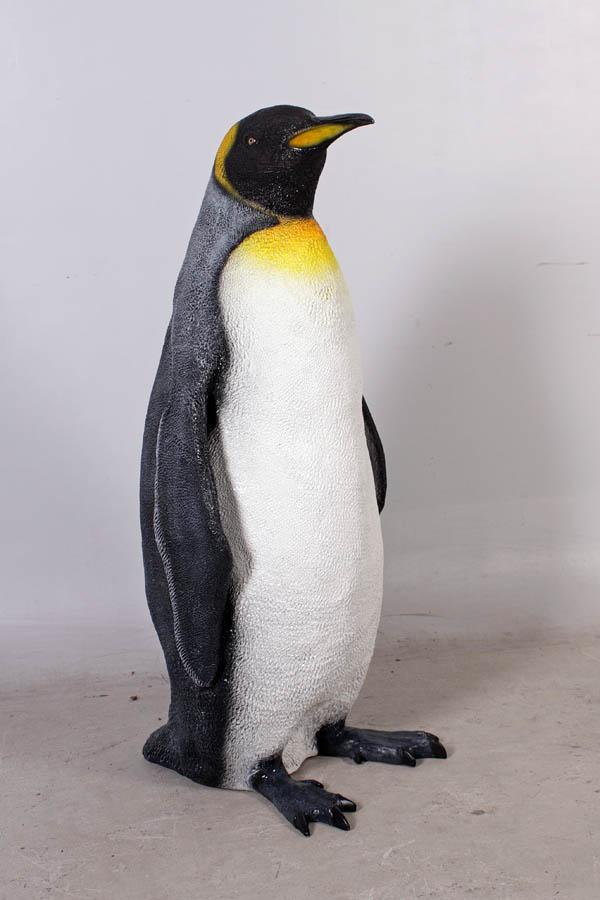king: (93, 78, 514, 860)
